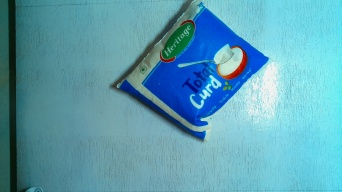m: (112, 3, 276, 140)
